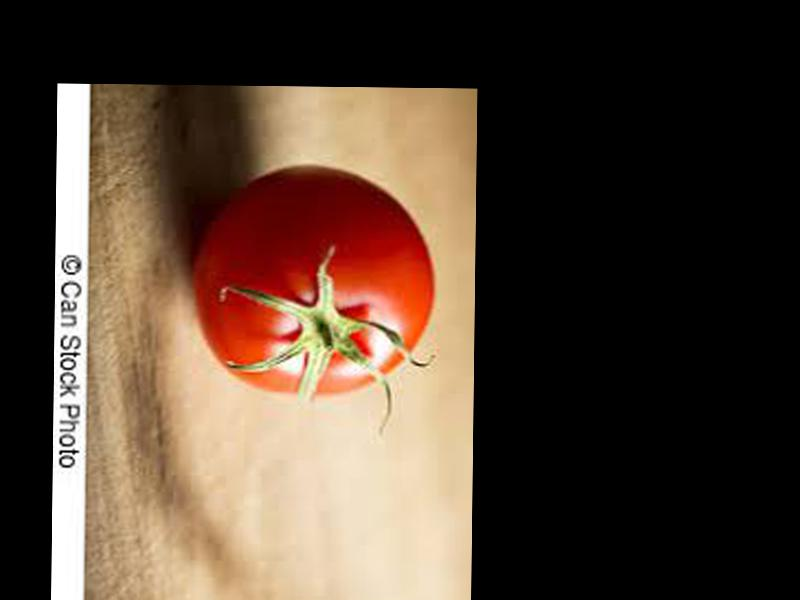Tomato: (193, 166, 432, 400)
